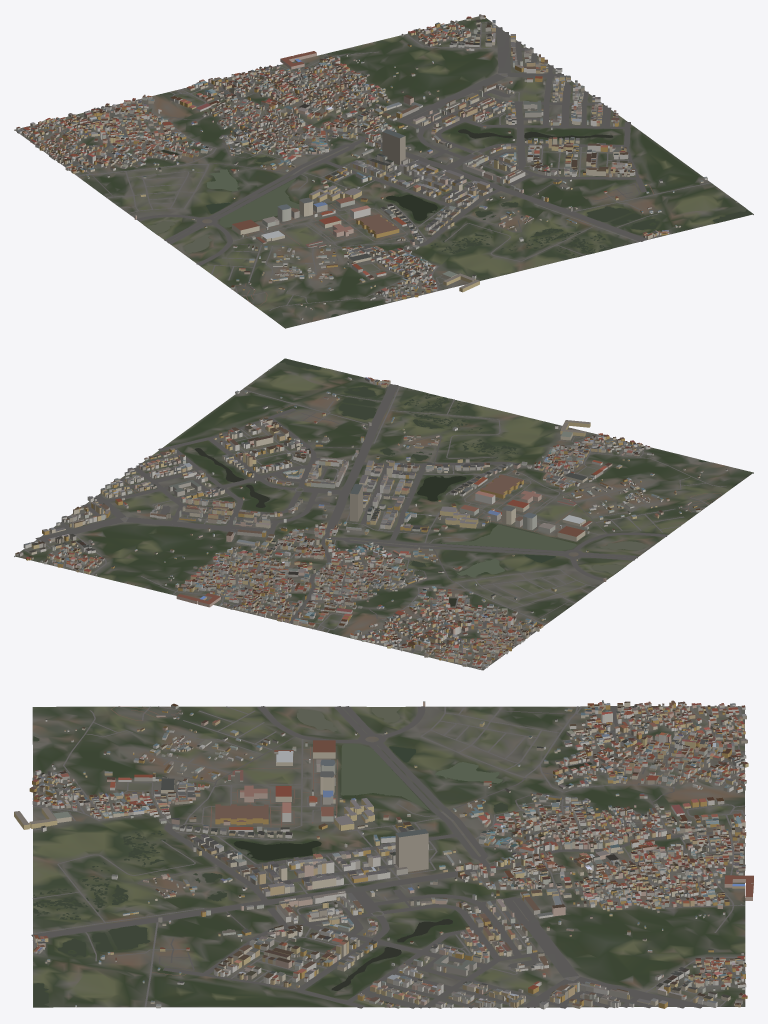
3 views of the same model, one above another, from view 1: azimuth 30°, elevation 25°; view 2: azimuth 150°, elevation 25°; view 3: azimuth 270°, elevation 25° (orthographic). The views are drawn at different scales.
Visible parts, largest first — view 1: ground, buildings, roads, water; view 2: ground, buildings, roads, water; view 3: ground, buildings, roads, water.
Boxes of the visible parts, left/top/right/bottom form: ground: left=14, top=16, right=753, bottom=328; buildings: left=16, top=14, right=737, bottom=319; roads: left=16, top=22, right=710, bottom=310; water: left=146, top=129, right=752, bottom=316; ground: left=14, top=362, right=753, bottom=670; buildings: left=15, top=369, right=727, bottom=669; roads: left=23, top=384, right=726, bottom=668; water: left=194, top=358, right=707, bottom=606; ground: left=32, top=706, right=745, bottom=1007; buildings: left=14, top=700, right=753, bottom=1009; roads: left=31, top=706, right=745, bottom=1008; water: left=33, top=707, right=592, bottom=1007.
Bounding box in the file's own units: 1415 × 81.83 × 1457.
